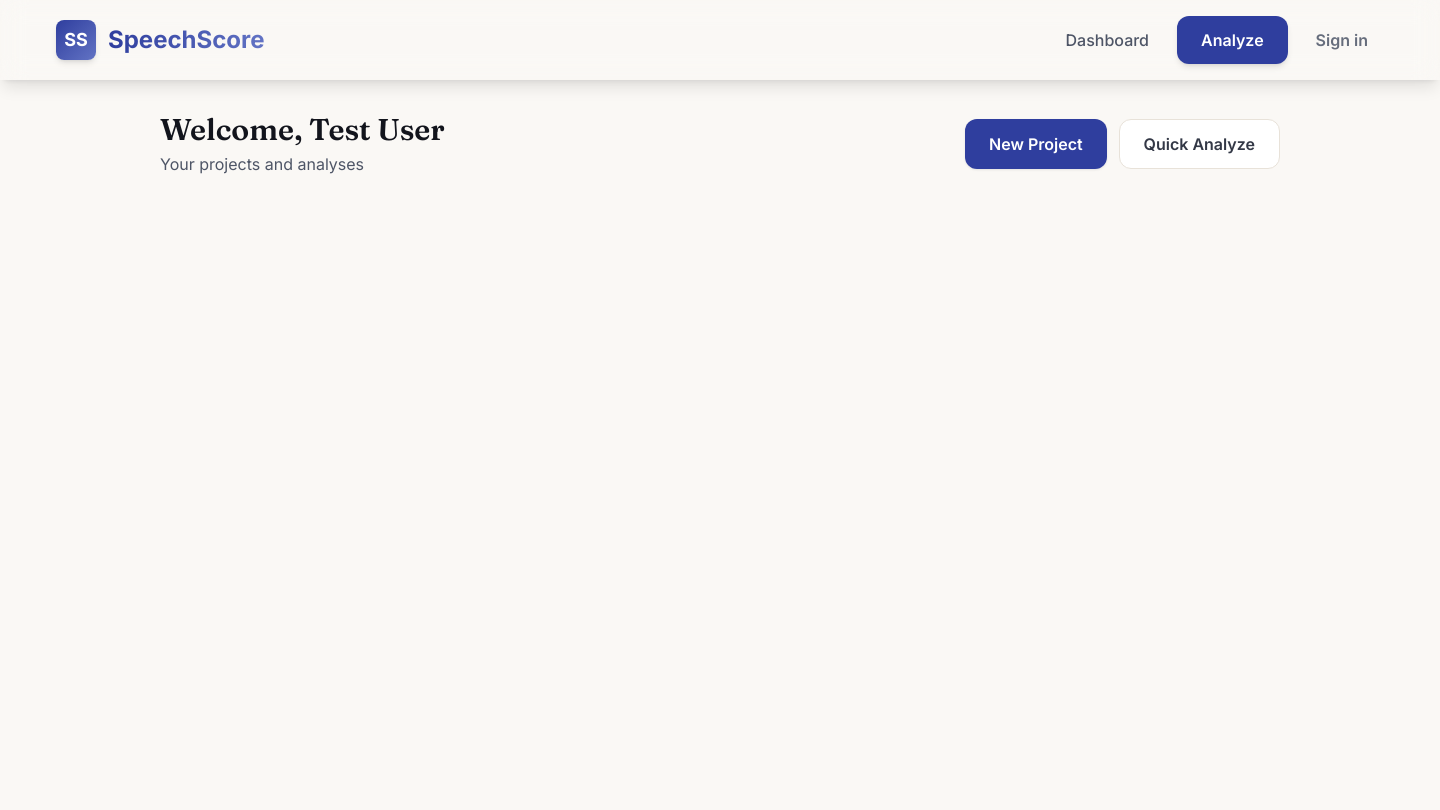
Test case: Dashboard › shows an inline error instead of alert() when submitting the New Project form without a name
Check: the heading "Welcome, Test User" is shown, box [160,112,445,148]
Click the button "New Project" at (1036, 144), box [965,119,1107,169]
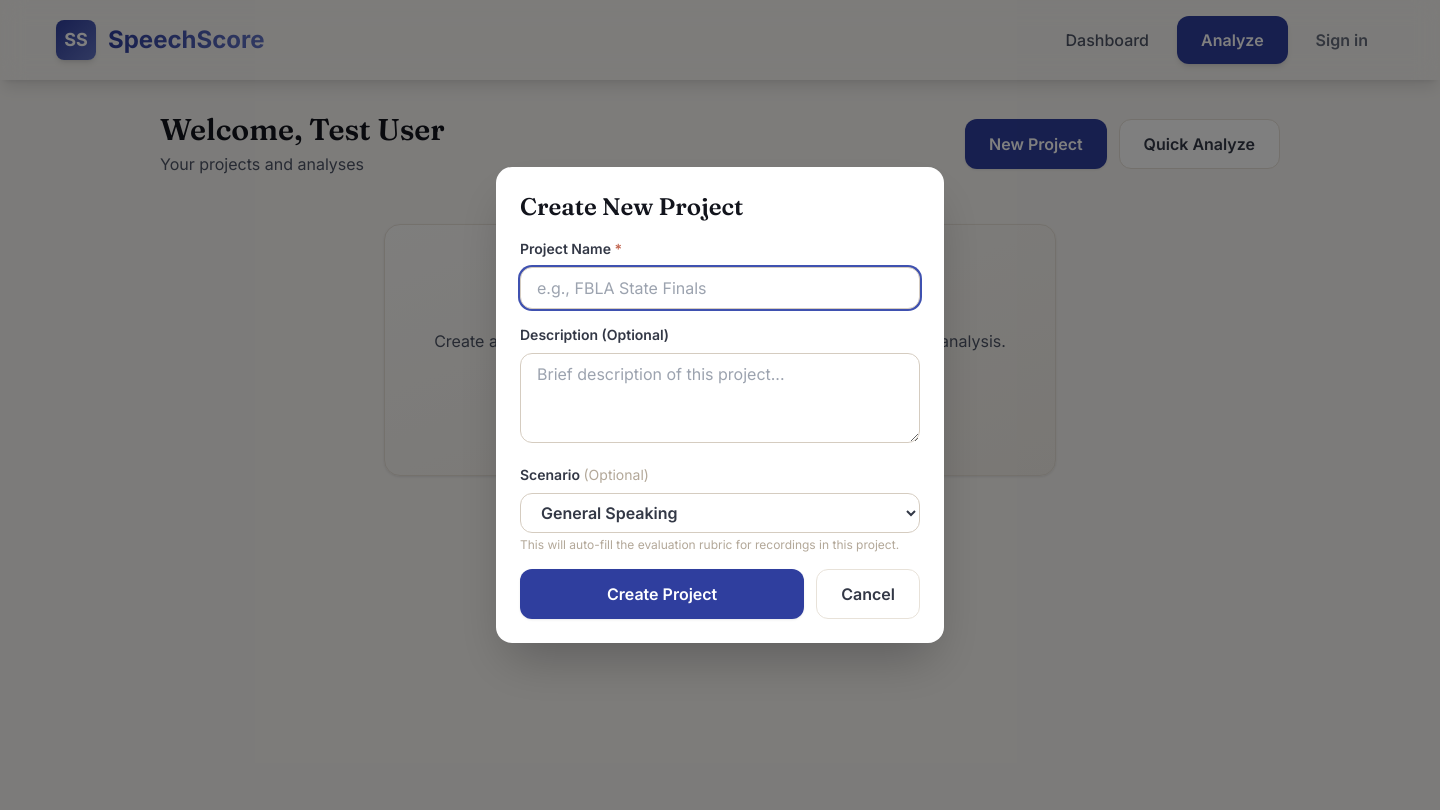
Click the button "Create Project" at (662, 594), box [520,569,804,619]
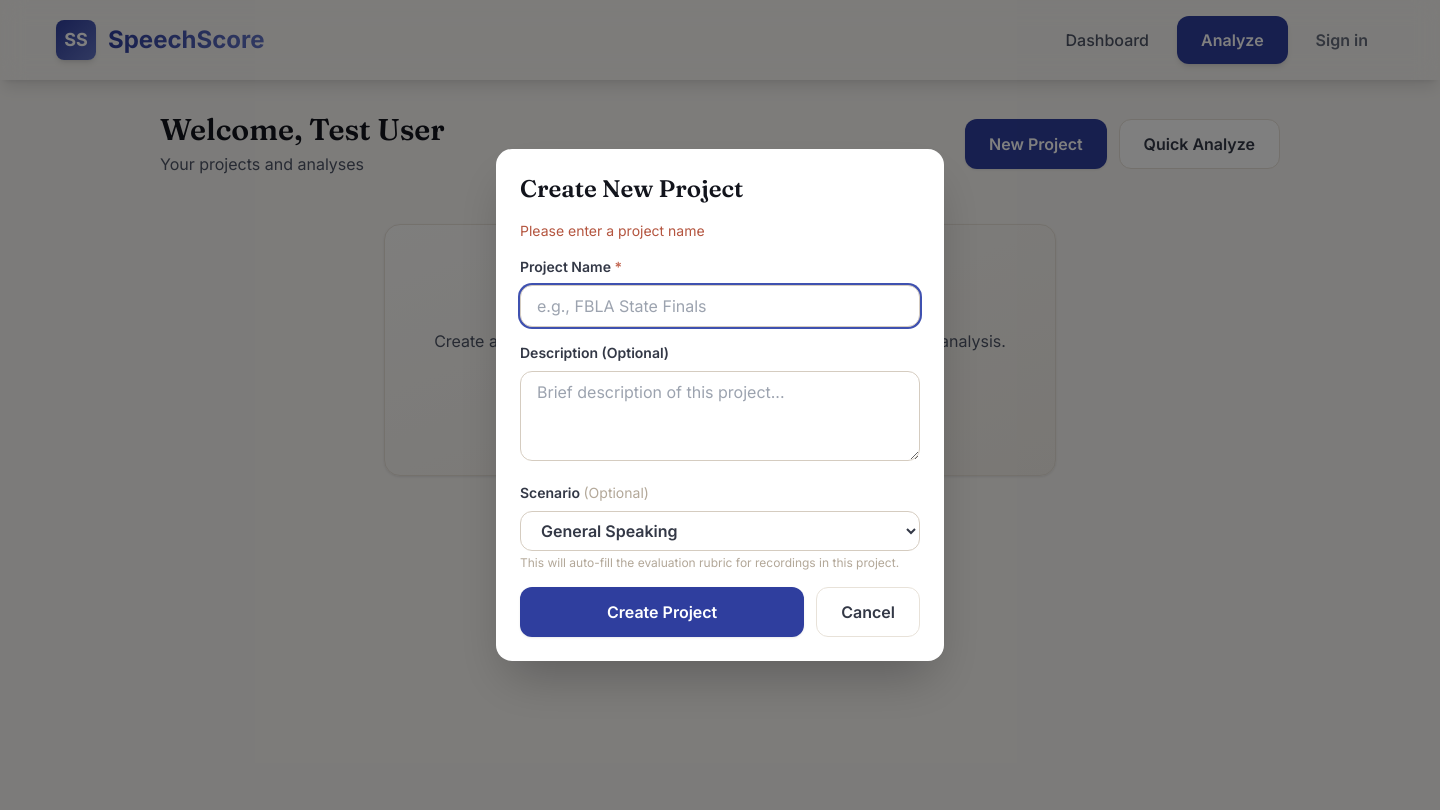
Check: the text "Please enter a project name" is shown, box [520,222,705,239]
